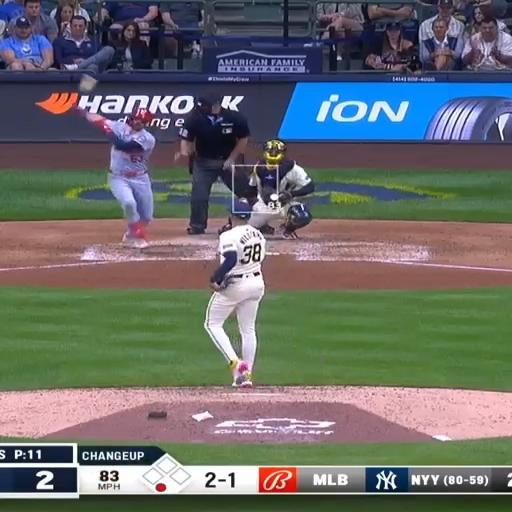bat: (77, 74, 97, 107)
